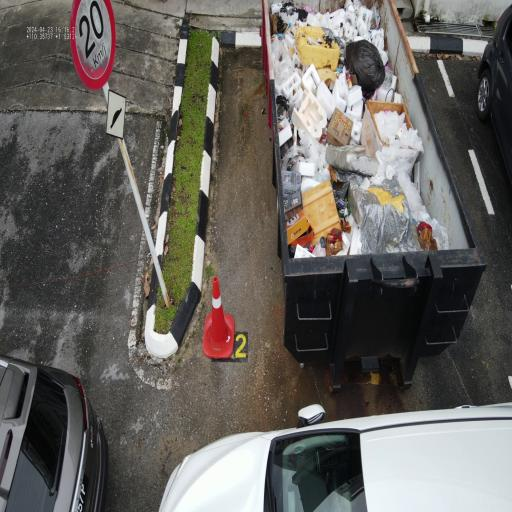Illegal: (155, 397, 512, 512), (0, 351, 110, 512)
